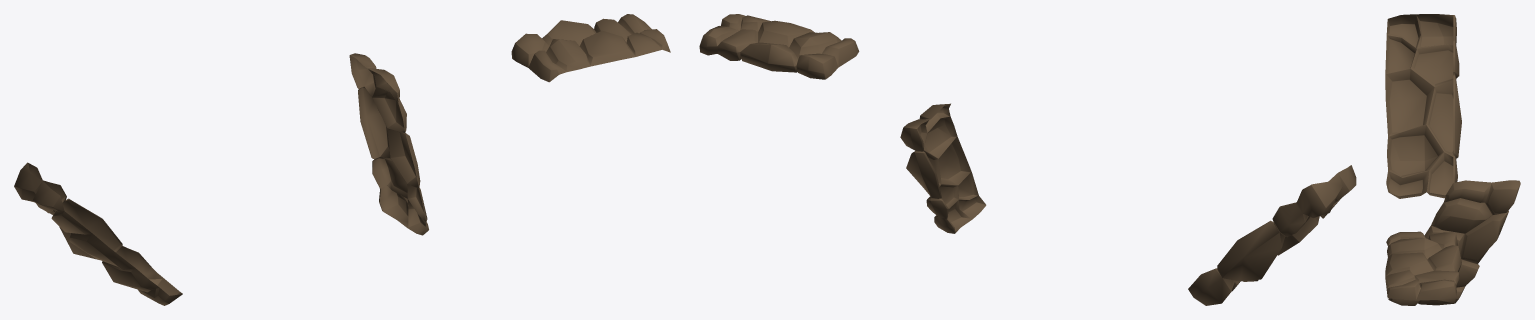
The model's file is Desert.fbx.
3 views of the same model, side by side, from view 1: azimuth 30°, elevation 25°; view 2: azimuth 150°, elevation 25°; view 3: azimuth 270°, elevation 25° (orthographic). The views are drawn at different scales.
Parts seen in each view (by area): view 1: DesertWallSlope, DesertWallAngle, DesertWall; view 2: DesertWallAngle, DesertWall, DesertWallSlope; view 3: DesertWallAngle, DesertWallSlope, DesertWall.
Boxes of the visible parts, x1,y1,x2,y2 form: DesertWallSlope: (349,53,428,235); DesertWallAngle: (14,162,182,305); DesertWall: (511,14,670,82); DesertWallAngle: (1188,165,1356,305); DesertWall: (699,14,859,79); DesertWallSlope: (900,103,986,233); DesertWallAngle: (1385,14,1461,198); DesertWallSlope: (1388,180,1520,305); DesertWall: (1385,231,1461,302).
Size of the model in its own units: 5129 by 1234 by 1045.
